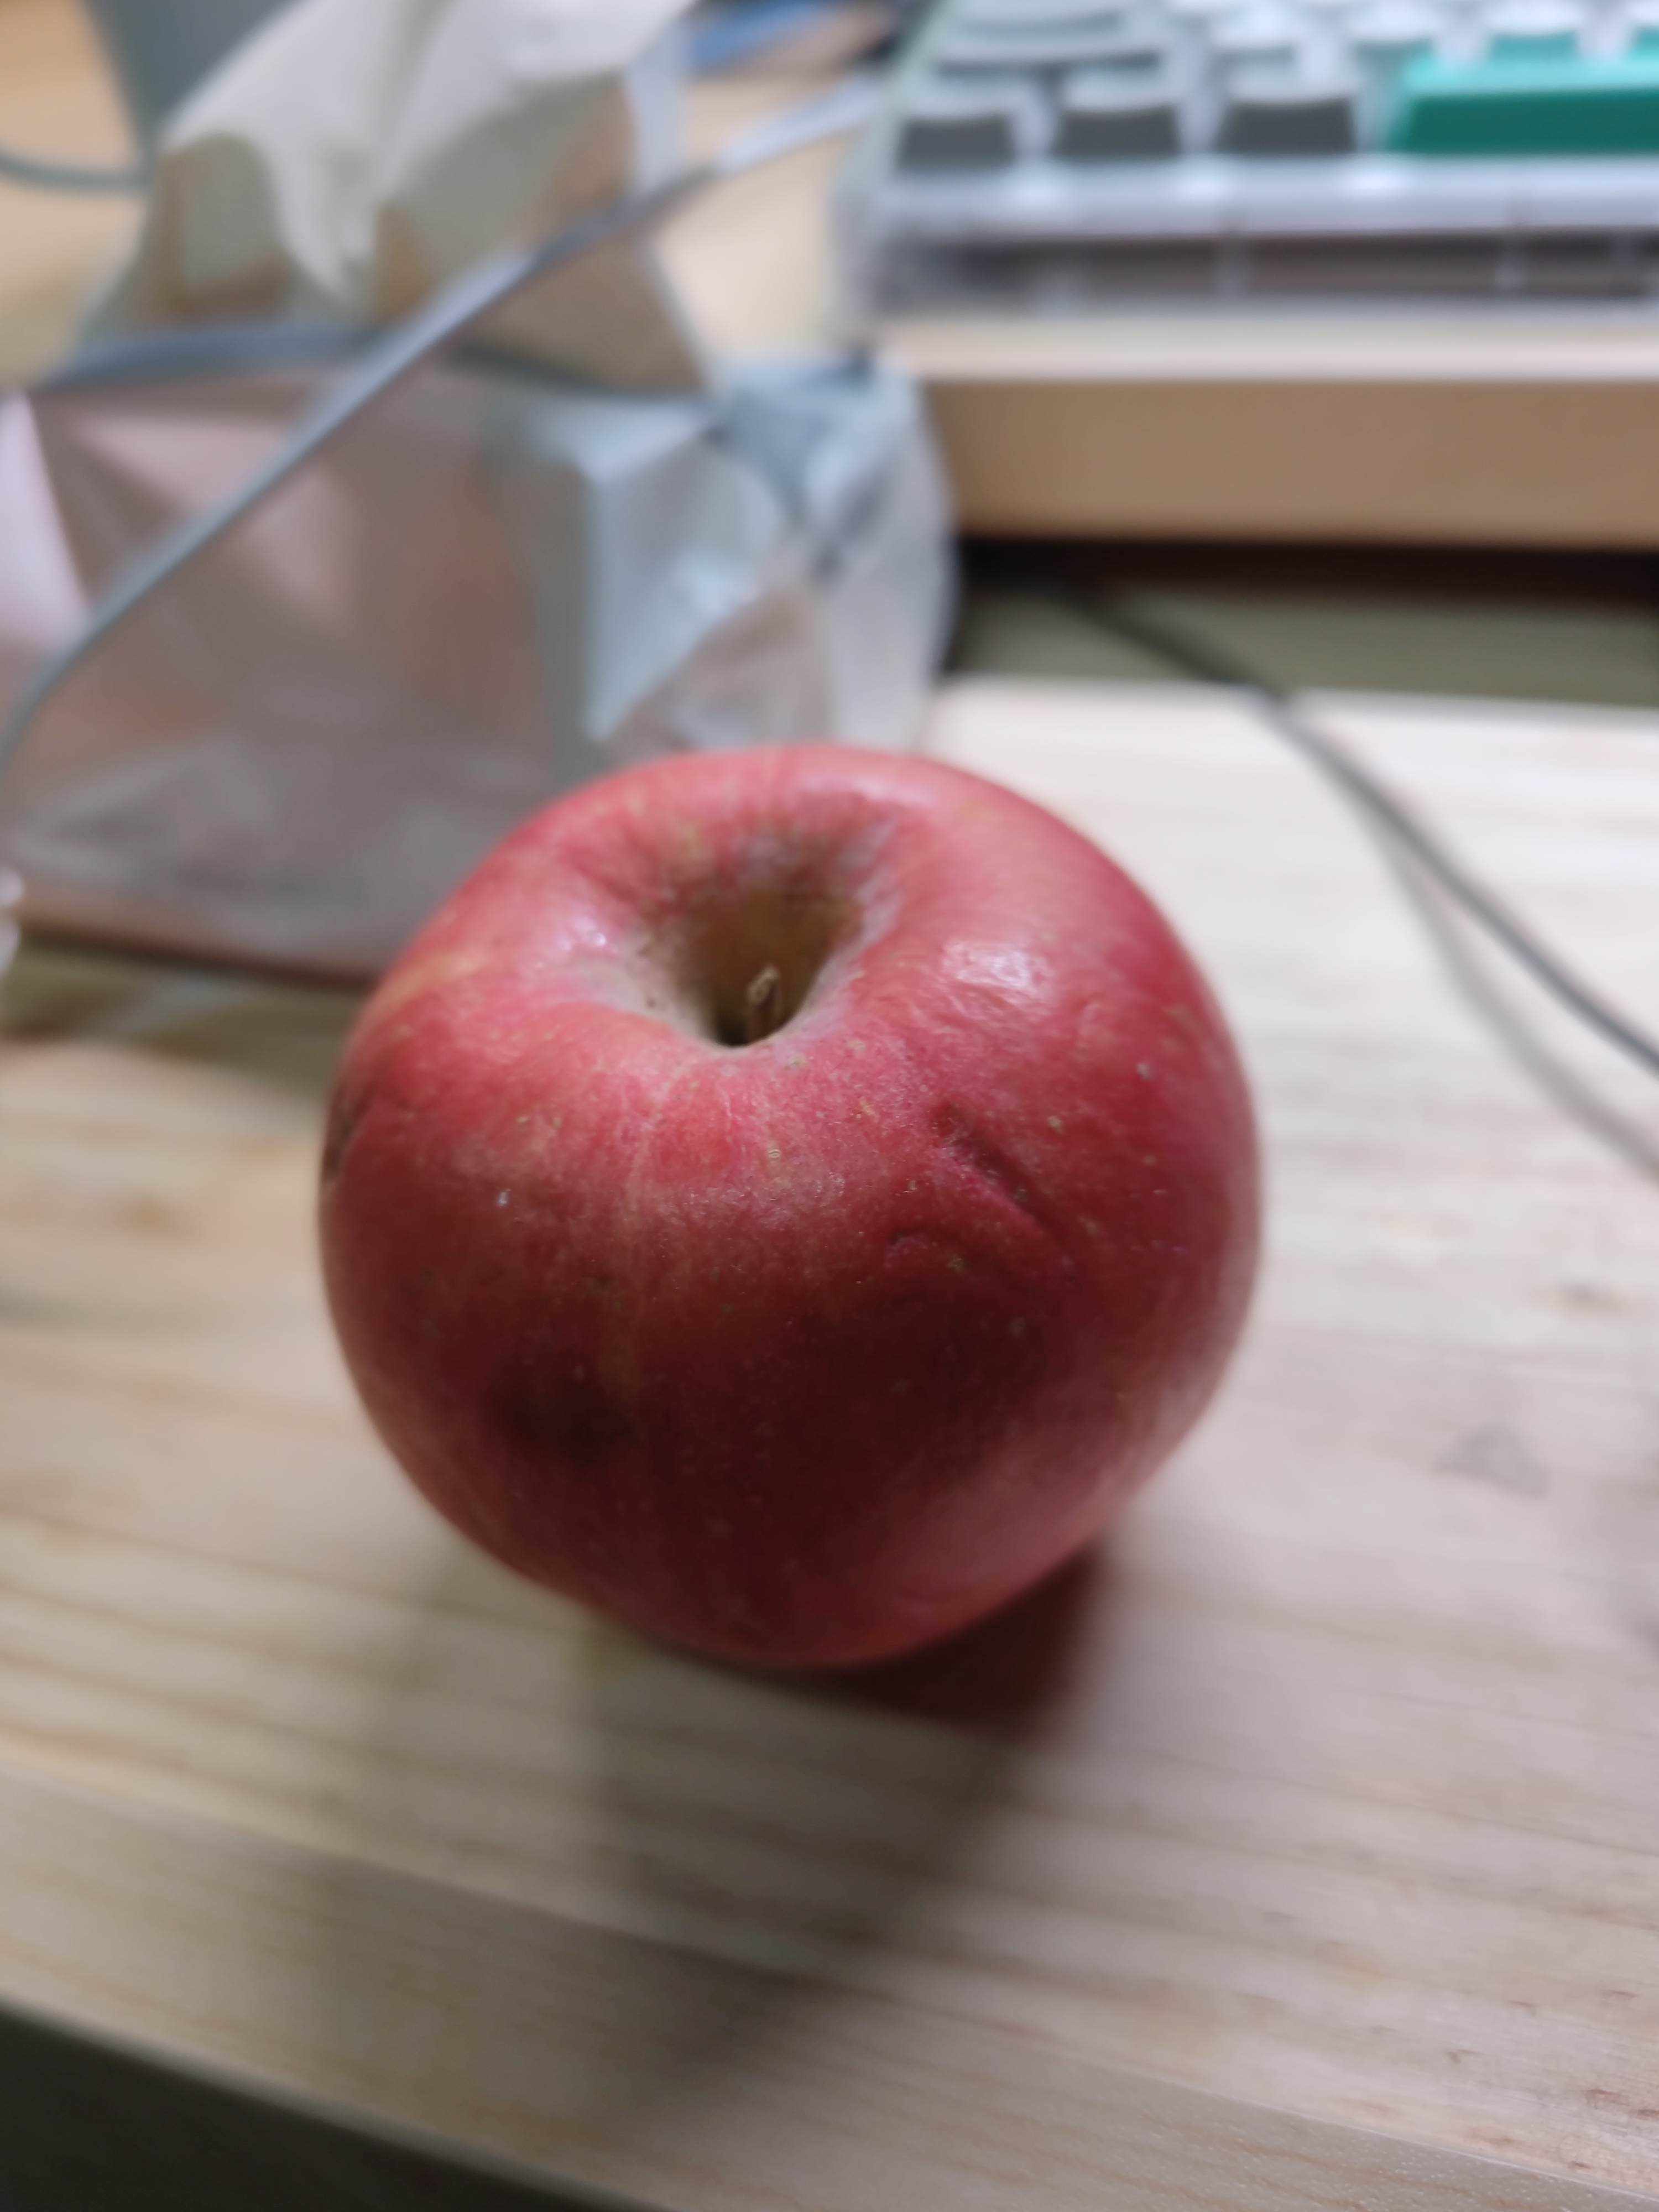apple: (326, 745, 1270, 1693)
